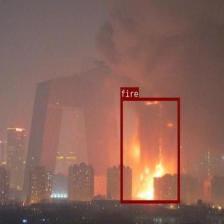fire: (120, 97, 179, 202)
